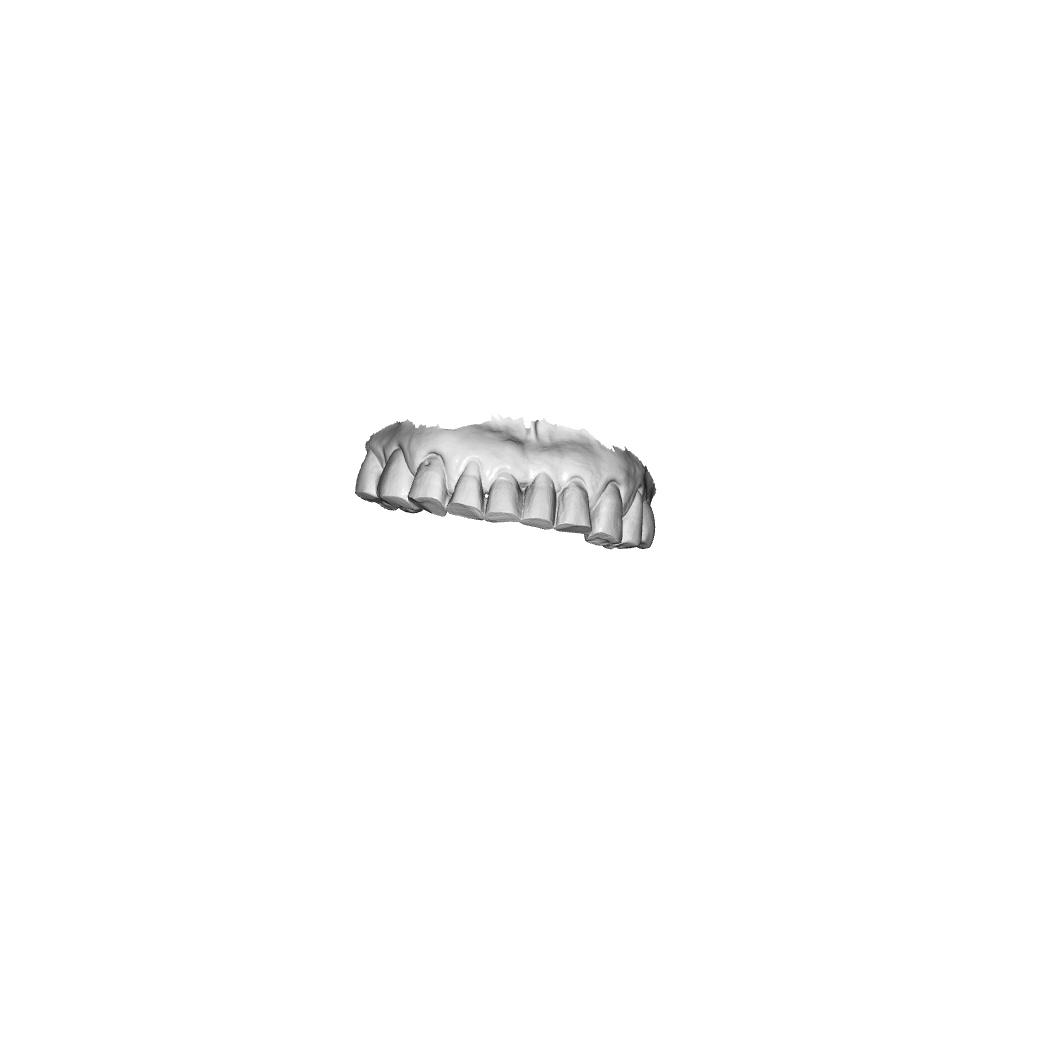canine: (583, 481, 624, 551), (408, 452, 449, 519)
incisor: (445, 458, 488, 521), (520, 471, 557, 531), (553, 479, 592, 535), (484, 470, 522, 524)
premolar: (377, 448, 424, 515), (615, 488, 643, 551), (354, 447, 381, 505), (637, 498, 657, 550)
